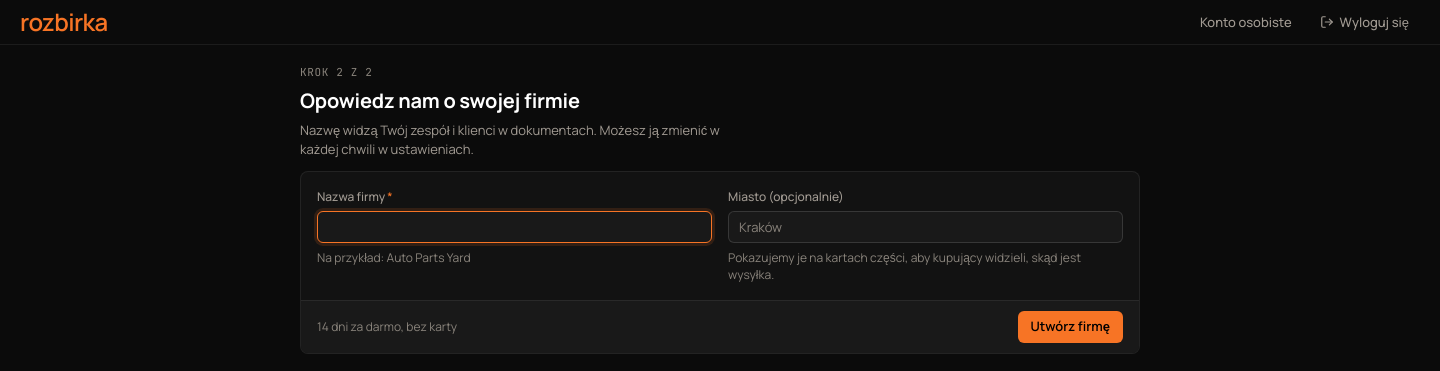
Test: asks for the business in Polish and says why the name is refused
Expected: the heading "Opowiedz nam o swojej firmie" is shown, 300,87 -> 580,114
Expected: the text "14 dni za darmo, bez karty" is shown, 317,318 -> 457,336
Click the button "Utwórz firmę": (1070, 327) 1018,311 -> 1123,343
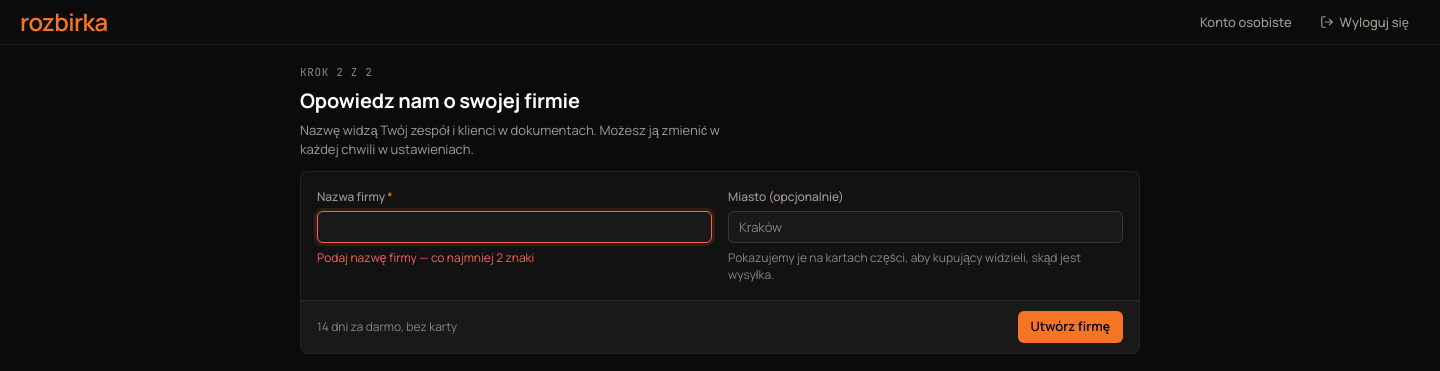
Expected: the text "Podaj nazwę firmy — co najmniej 2 znaki" is shown, 317,249 -> 534,266
